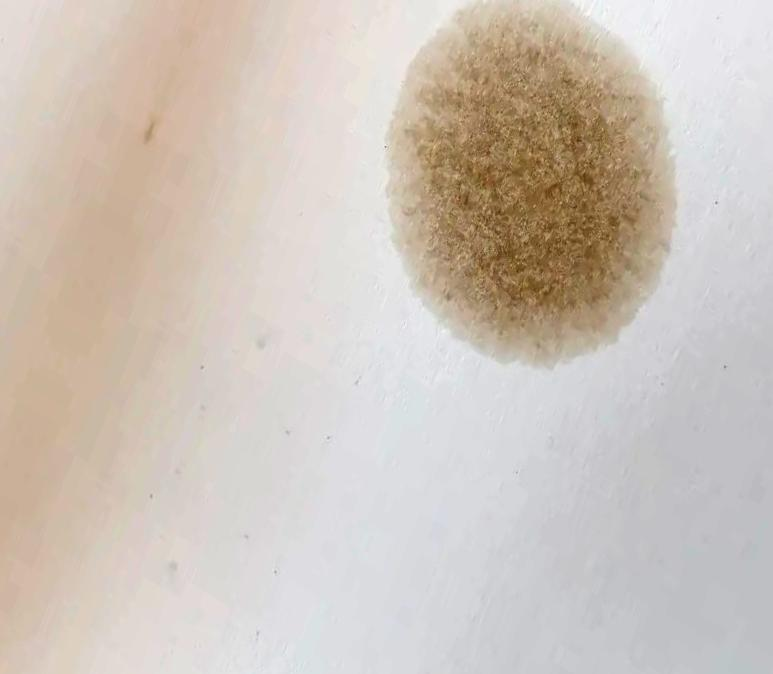stain: (376, 0, 697, 379)
